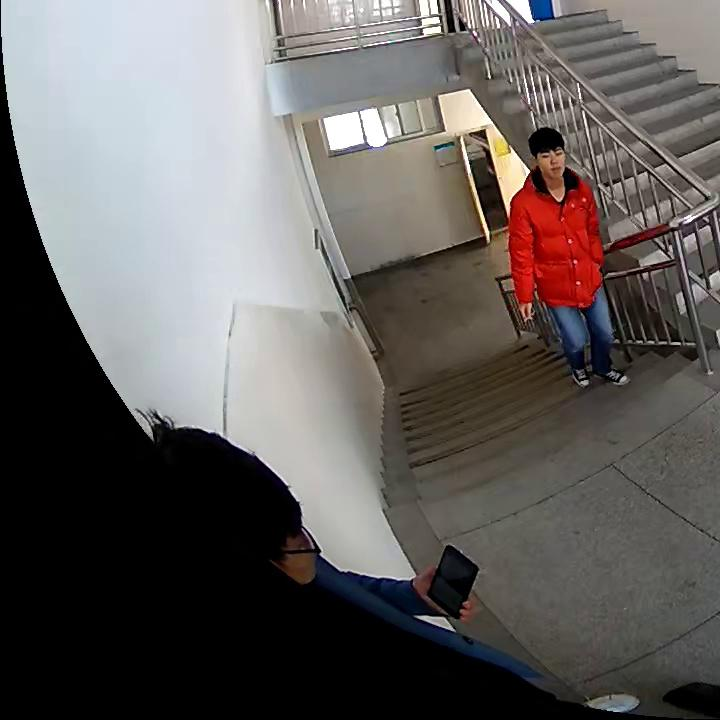handsmoke: (514, 300, 536, 323)
mouthwithoutsmoke: (527, 132, 571, 178)
